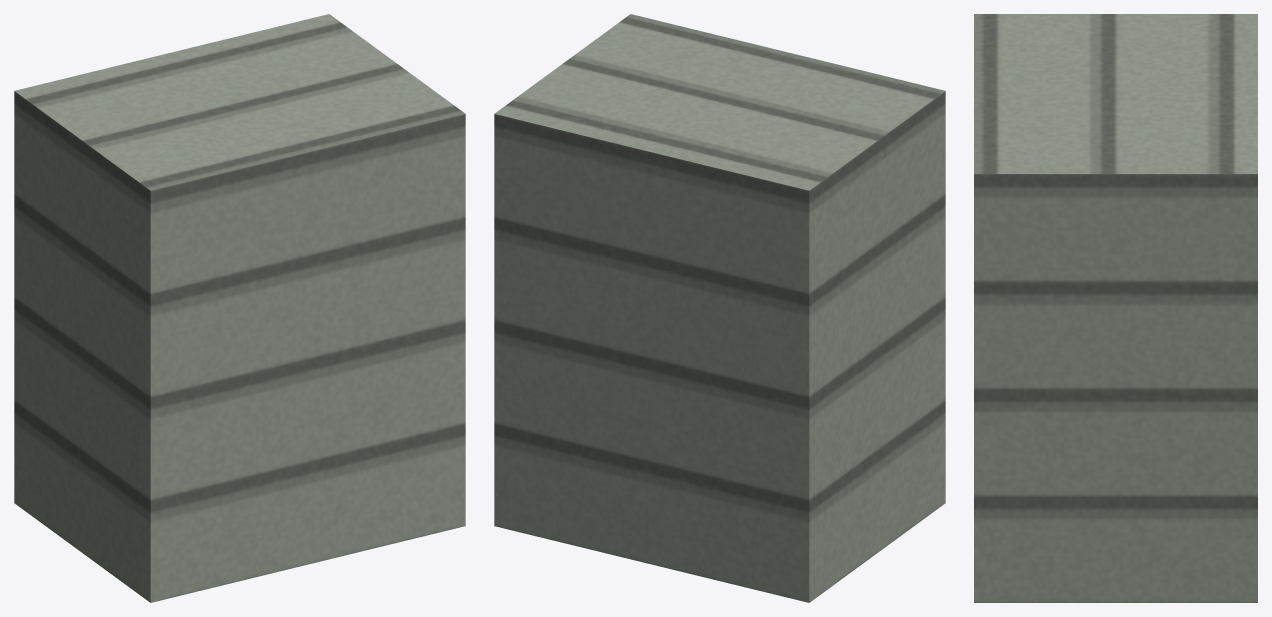
Rendered from malt_mixer_syrup_dispenser.glb.
3 views of the same model, side by side, from view 1: azimuth 30°, elevation 25°; view 2: azimuth 150°, elevation 25°; view 3: azimuth 270°, elevation 25° (orthographic). The views are drawn at different scales.
Parts seen in each view (by area): view 1: malt_mixer_syrup_dispenser-col; view 2: malt_mixer_syrup_dispenser-col; view 3: malt_mixer_syrup_dispenser-col.
Part boxes in pixels (x1,y1,x2,y2): malt_mixer_syrup_dispenser-col: [14, 14, 465, 602]; malt_mixer_syrup_dispenser-col: [494, 14, 945, 602]; malt_mixer_syrup_dispenser-col: [974, 14, 1257, 602].
Size of the model in its own units: 0.4 by 0.5 by 0.3.
1 material, 1 textured.
